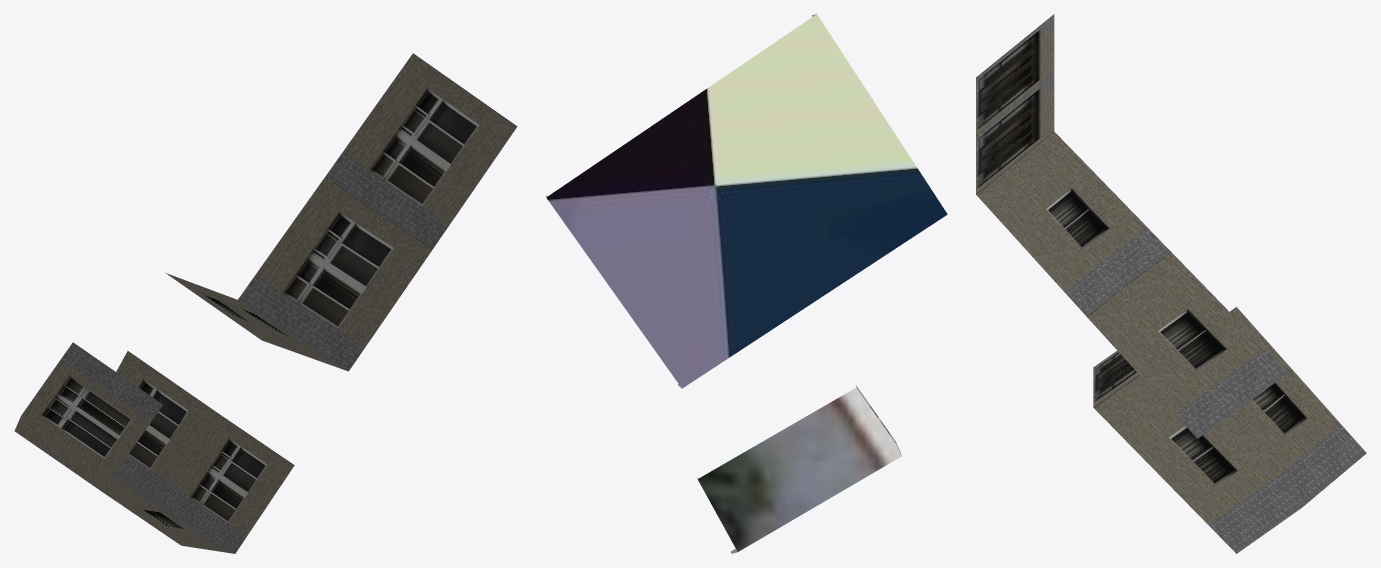
File: tile_LOD8_r5_c3.glb
3 views of the same model, side by side, from view 1: azimuth 30°, elevation 25°; view 2: azimuth 150°, elevation 25°; view 3: azimuth 270°, elevation 25° (orthographic). The views are drawn at different scales.
Size of the model in its own units: 18.5 by 22.75 by 15.
Materials: 6 (6 with a texture image).
